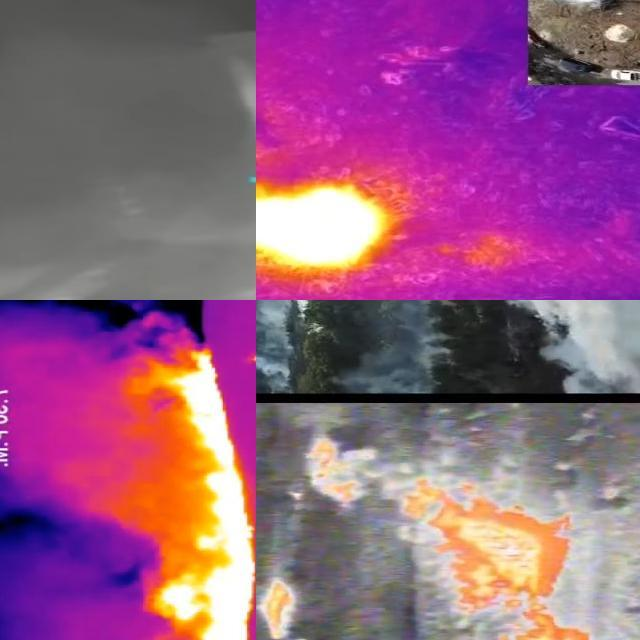fire: (304, 437, 577, 613), (115, 339, 257, 640), (257, 185, 392, 271), (422, 613, 640, 640), (258, 579, 300, 640)
